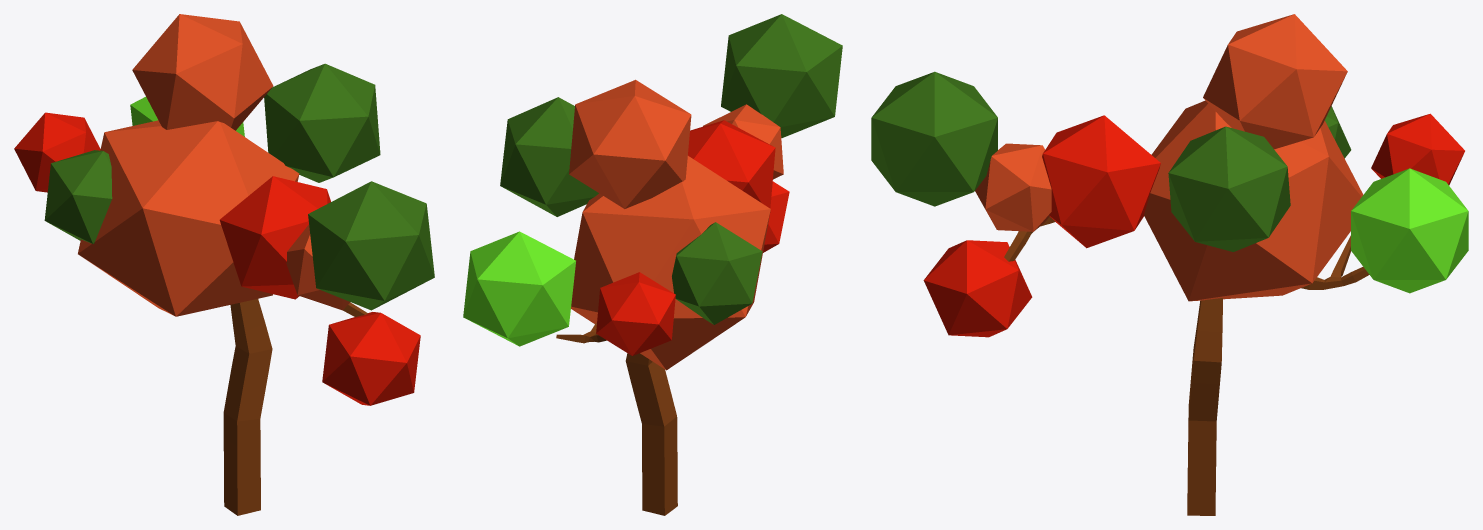
Rendered from tree_3.fbx.
3 views of the same model, side by side, from view 1: azimuth 30°, elevation 25°; view 2: azimuth 150°, elevation 25°; view 3: azimuth 270°, elevation 25° (orthographic). The views are drawn at different scales.
Visible parts, largest first — view 1: Icosphere.024, Icosphere.016, Icosphere.017, Icosphere.021, Cube.002, Icosphere.020, Icosphere.023, Icosphere.022, Icosphere.019, Icosphere.025, Icosphere.018; view 2: Icosphere.024, Icosphere.017, Icosphere.016, Icosphere.018, Icosphere.021, Icosphere.022, Cube.002, Icosphere.019, Icosphere.020, Icosphere.025, Icosphere.023; view 3: Icosphere.024, Icosphere.016, Icosphere.017, Icosphere.021, Icosphere.018, Icosphere.020, Cube.002, Icosphere.023, Icosphere.025, Icosphere.019.
Part boxes in pixels (x1,y1,x2,y2): Icosphere.024: [78, 120, 299, 316]; Icosphere.016: [308, 181, 434, 310]; Icosphere.017: [132, 14, 273, 130]; Icosphere.021: [264, 63, 380, 182]; Cube.002: [223, 299, 367, 515]; Icosphere.020: [219, 176, 330, 299]; Icosphere.023: [322, 312, 420, 405]; Icosphere.022: [44, 150, 112, 243]; Icosphere.019: [14, 112, 100, 192]; Icosphere.025: [286, 225, 350, 310]; Icosphere.018: [130, 96, 244, 136]; Icosphere.024: [571, 156, 770, 370]; Icosphere.017: [569, 79, 691, 208]; Icosphere.016: [721, 14, 842, 137]; Icosphere.018: [463, 231, 575, 346]; Icosphere.021: [500, 97, 598, 216]; Icosphere.022: [672, 222, 762, 324]; Cube.002: [556, 323, 677, 515]; Icosphere.019: [596, 272, 675, 355]; Icosphere.020: [688, 120, 775, 215]; Icosphere.025: [703, 104, 783, 179]; Icosphere.023: [763, 181, 789, 252]; Icosphere.024: [1144, 100, 1363, 301]; Icosphere.016: [871, 71, 997, 206]; Icosphere.017: [1203, 14, 1347, 149]; Icosphere.021: [1168, 126, 1290, 251]; Icosphere.018: [1351, 168, 1468, 293]; Icosphere.020: [1042, 115, 1160, 248]; Cube.002: [1004, 217, 1369, 515]; Icosphere.023: [923, 240, 1032, 337]; Icosphere.025: [975, 143, 1051, 231]; Icosphere.019: [1371, 113, 1464, 185].
Size of the model in its own units: 222 by 338 by 376.
